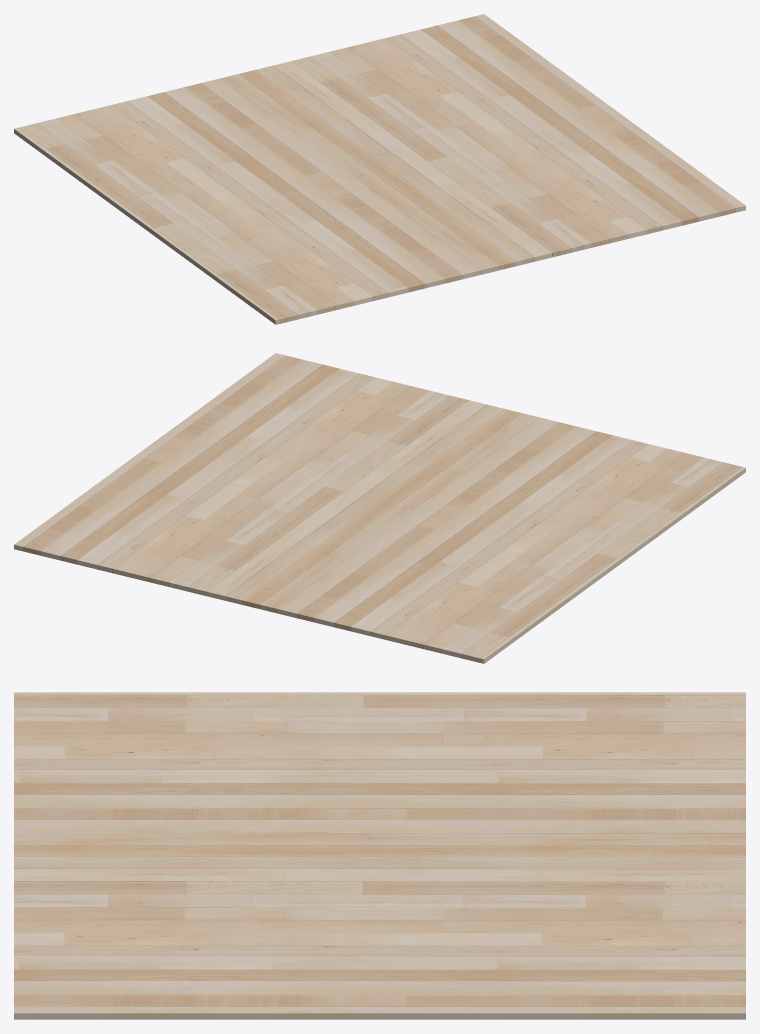
The picture shows the model from 3 angles, top to bottom: view 1: azimuth 30°, elevation 25°; view 2: azimuth 150°, elevation 25°; view 3: azimuth 270°, elevation 25°; orthographic projection. The views are drawn at different scales.
Parts seen in each view (by area): view 1: Cube.004; view 2: Cube.004; view 3: Cube.004.
Boxes of the visible parts, bbox=[...] form: Cube.004: bbox=[14, 14, 745, 324]; Cube.004: bbox=[14, 353, 745, 663]; Cube.004: bbox=[14, 692, 745, 1019].
Bounding box in the file's own units: 1057 × 10.2 × 1096.
Materials: 1 (1 with a texture image).
